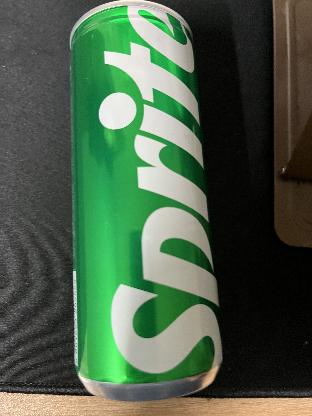Can: (67, 0, 222, 404)
